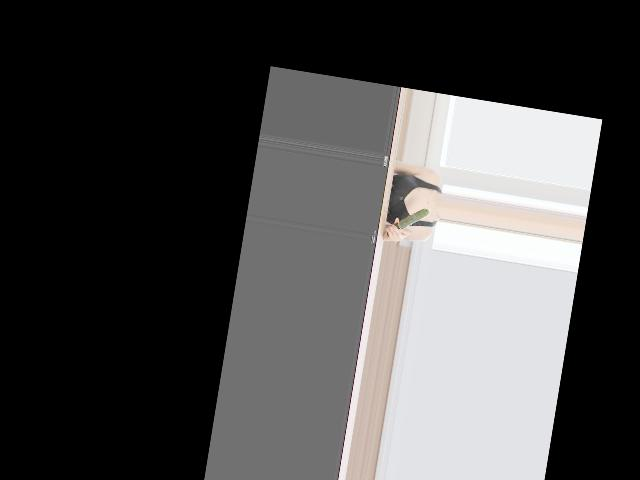cucumber: (385, 203, 430, 242)
